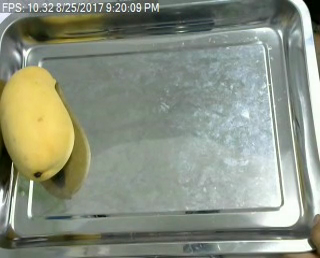Mango: (0, 61, 75, 181)
